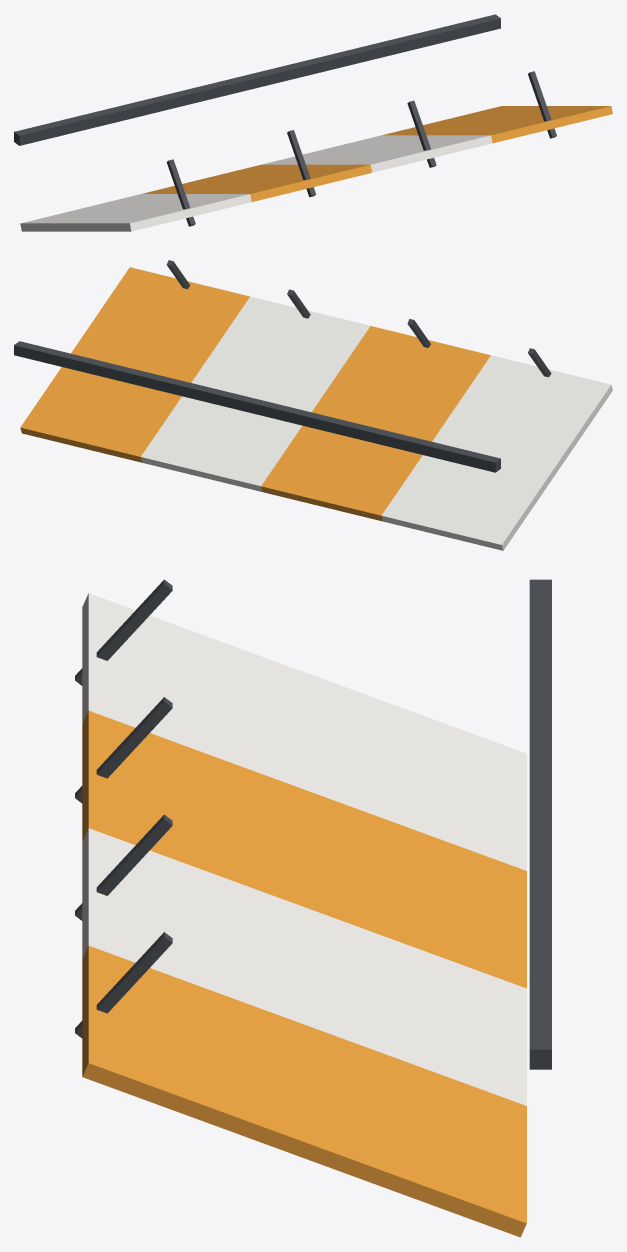
File: arch.awning.glb
3 renders of one model, top to bottom at view 1: azimuth 30°, elevation 25°; view 2: azimuth 150°, elevation 25°; view 3: azimuth 270°, elevation 25°, orthographic. The views are drawn at different scales.
Parts seen in each view (by area): view 1: arch.awning; view 2: arch.awning; view 3: arch.awning.
Part boxes in pixels (x1=…): arch.awning: x1=14, y1=14, x2=612, y2=231; arch.awning: x1=14, y1=260, x2=612, y2=550; arch.awning: x1=75, y1=579, x2=551, y2=1237.
Bounding box in the file's own units: 4 × 0.9706 × 1.72.
